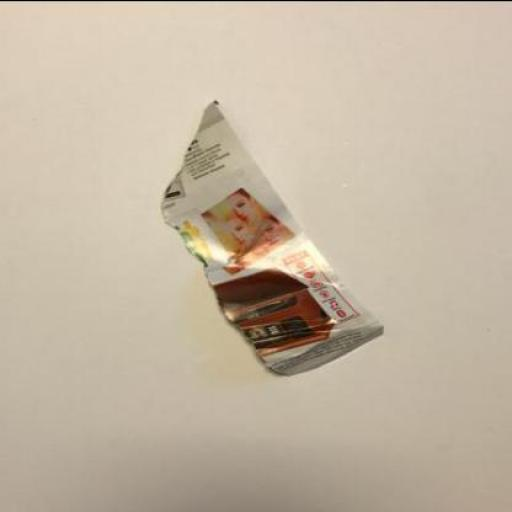paper: (161, 99, 384, 374)
